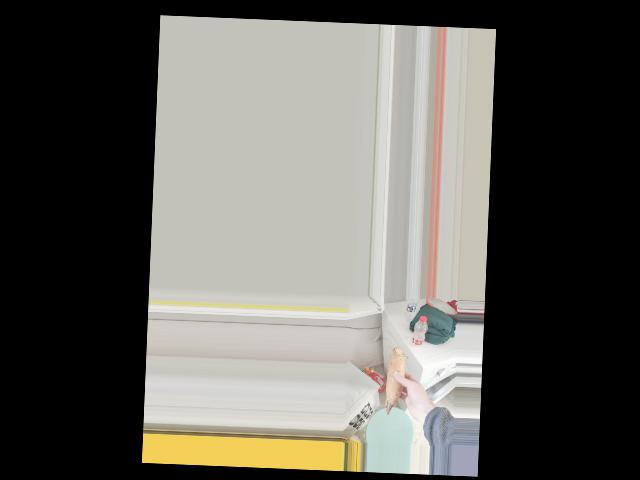sweet_potato: (380, 343, 411, 416)
